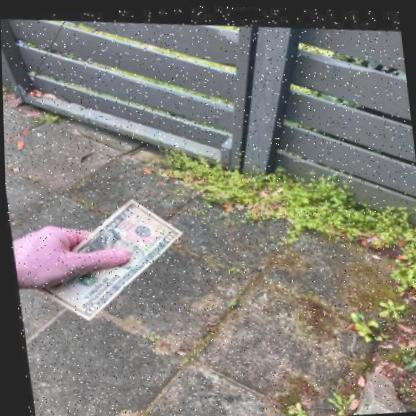ten-front: (29, 195, 182, 320)
